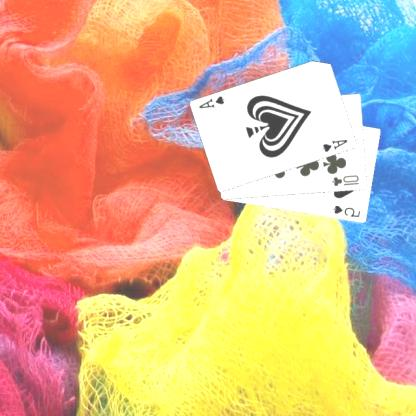10C: (331, 172, 363, 188)
5S: (332, 203, 364, 219)
AS: (322, 136, 352, 154), (198, 93, 228, 110)
